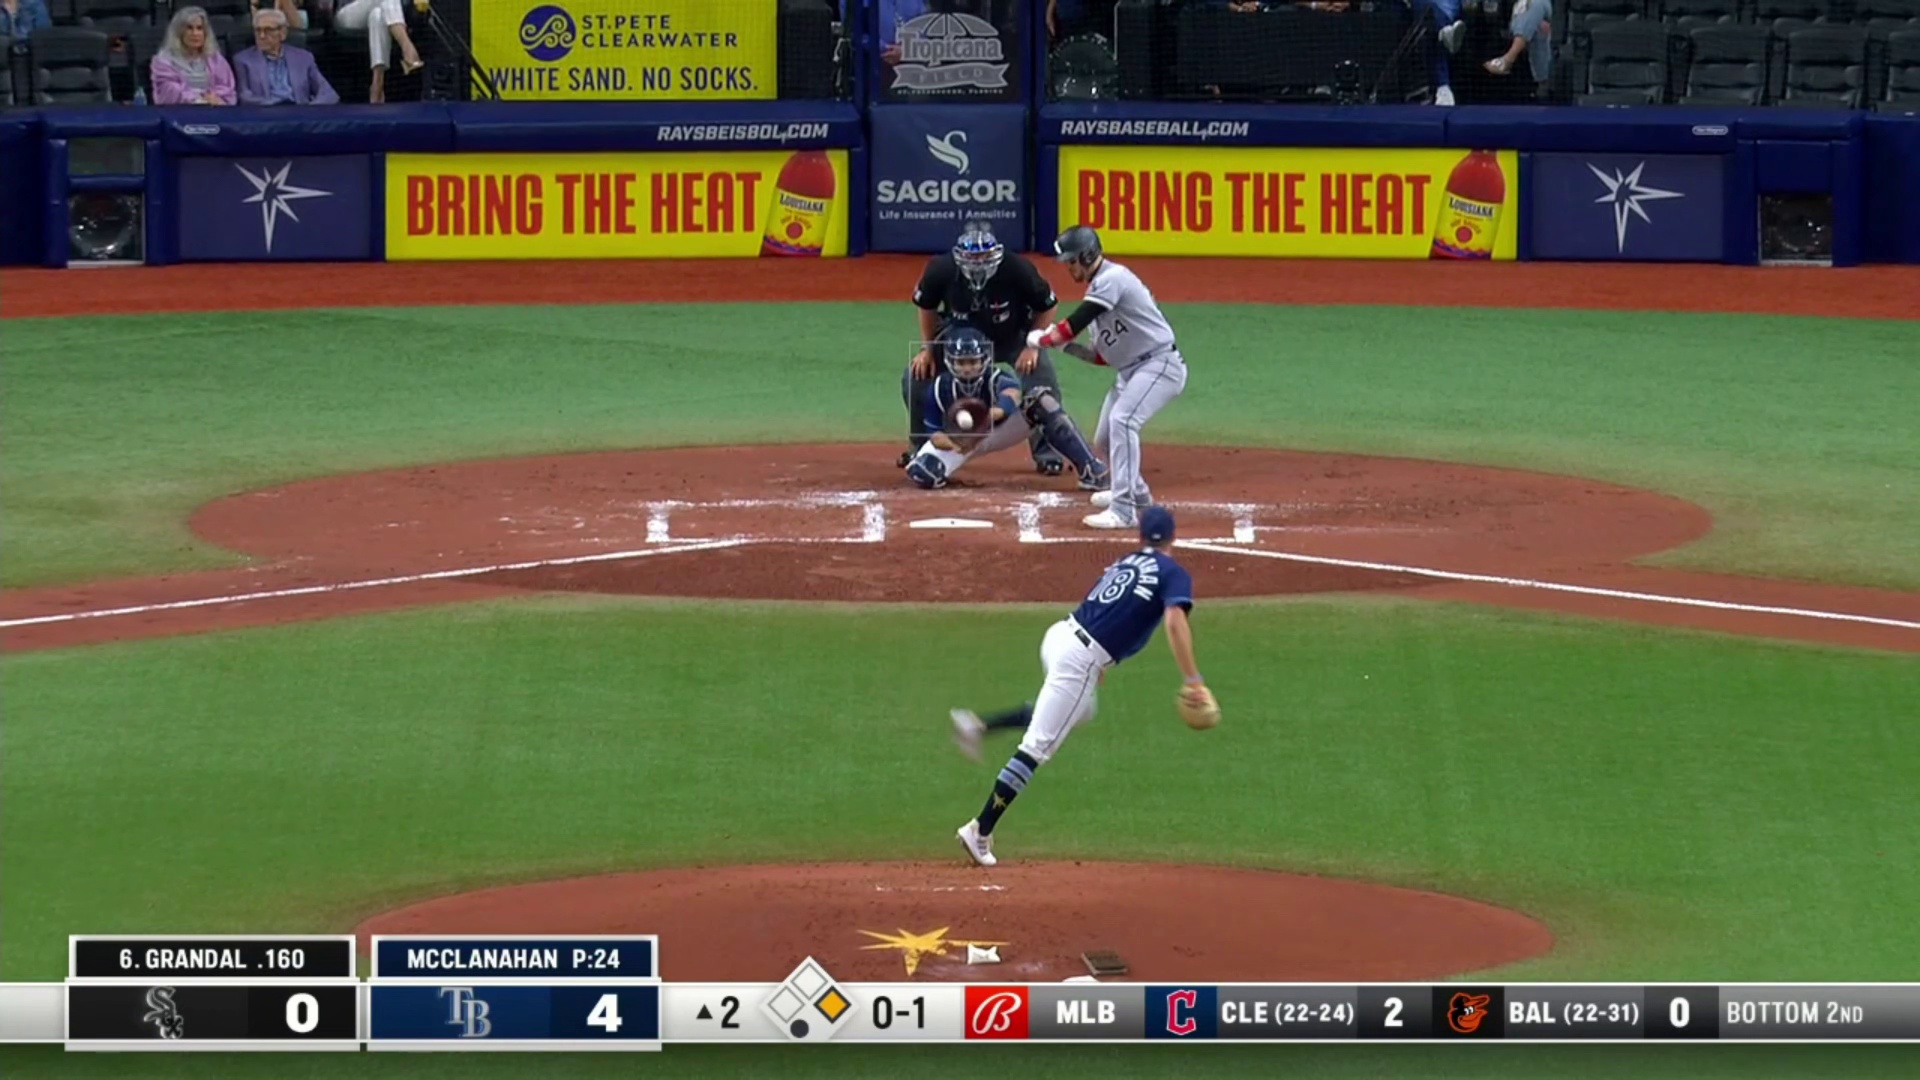baseball: (955, 409, 972, 429)
